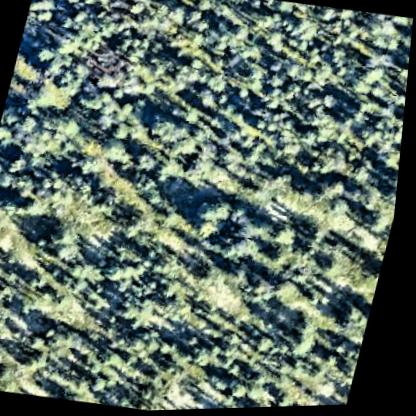tree-top: (359, 17, 406, 62), (338, 302, 378, 344), (195, 195, 238, 231), (41, 219, 82, 256), (310, 173, 352, 209), (192, 206, 228, 247), (311, 145, 352, 180), (290, 324, 326, 363), (98, 133, 133, 167), (272, 278, 306, 312), (156, 154, 190, 187), (272, 221, 303, 256), (145, 113, 180, 144), (364, 208, 398, 239), (48, 325, 83, 355), (215, 144, 248, 175), (318, 254, 348, 284), (20, 191, 50, 221), (162, 3, 193, 31), (243, 216, 274, 244), (52, 30, 85, 56), (109, 240, 141, 266), (106, 258, 136, 285), (133, 149, 161, 177), (359, 64, 388, 90), (15, 110, 42, 136), (192, 87, 219, 112), (108, 120, 133, 146), (32, 42, 57, 67), (261, 29, 286, 54), (256, 334, 281, 359), (232, 381, 257, 405), (92, 70, 118, 93), (307, 289, 330, 315), (6, 153, 30, 177), (158, 278, 183, 301), (94, 372, 117, 395), (265, 72, 288, 94), (121, 0, 144, 19), (320, 94, 345, 111), (185, 8, 205, 28), (312, 7, 335, 24), (270, 1, 291, 18), (0, 361, 12, 390), (247, 0, 268, 15), (57, 0, 83, 8), (50, 0, 81, 5)
